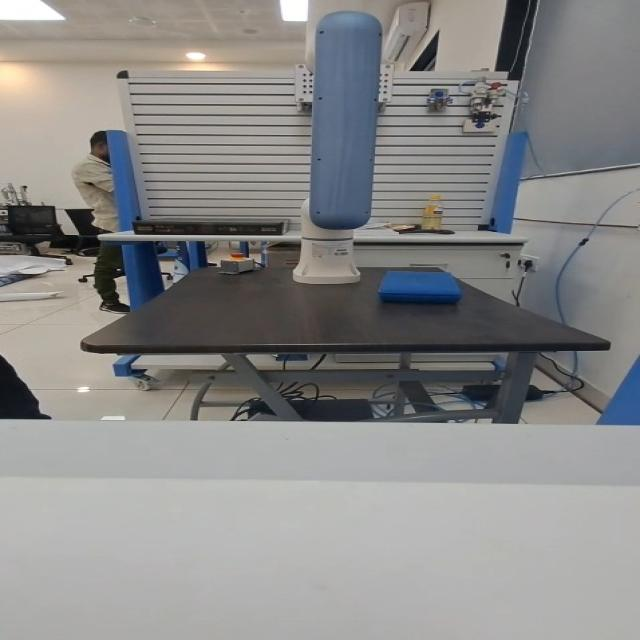top-surface: (391, 274, 448, 289)
